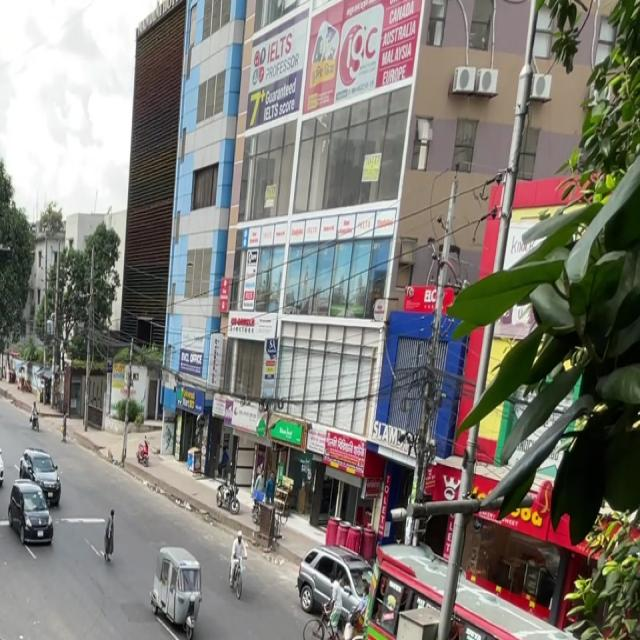bicycle: (223, 527, 252, 601)
car: (6, 478, 57, 550), (20, 448, 64, 505), (0, 428, 6, 487)
motorbike: (213, 474, 240, 515)
rickshaw: (147, 542, 211, 640)
